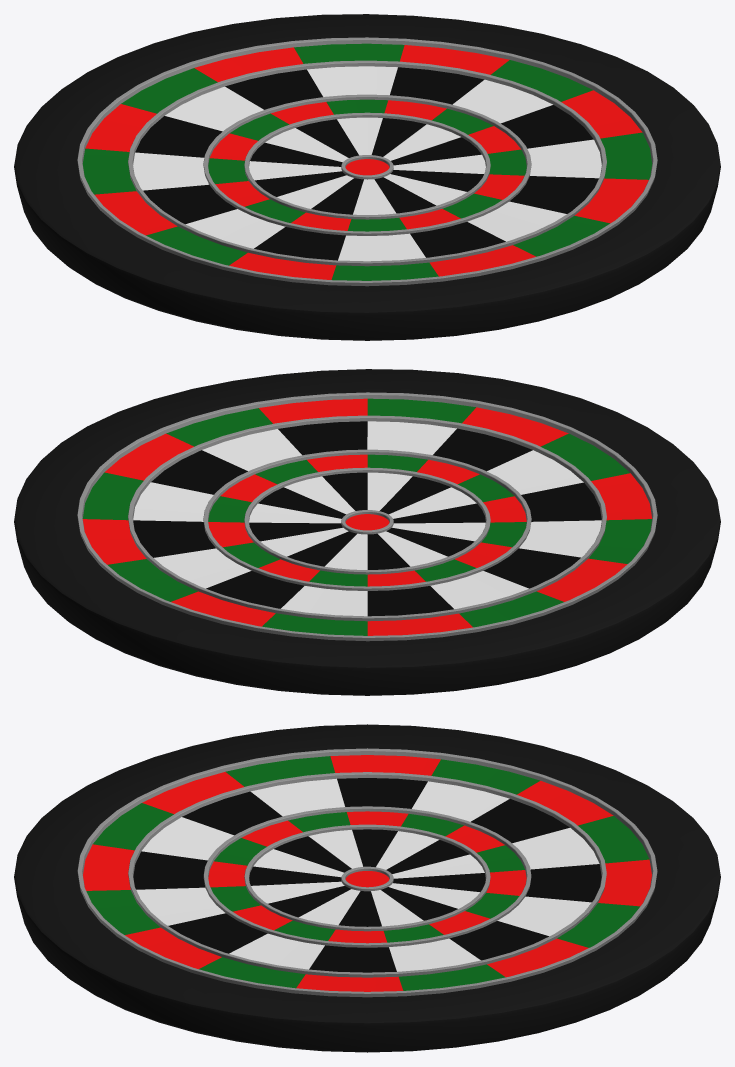
The model's file is Dart_Cible.FBX.
The picture shows the model from 3 angles, top to bottom: view 1: azimuth 30°, elevation 25°; view 2: azimuth 150°, elevation 25°; view 3: azimuth 270°, elevation 25°; orthographic projection.
Visible parts, largest first — view 1: Cylinder030; view 2: Cylinder030; view 3: Cylinder030.
Boxes of the visible parts, left/top/right/bottom form: Cylinder030: left=14, top=14, right=720, bottom=340; Cylinder030: left=14, top=369, right=720, bottom=695; Cylinder030: left=14, top=724, right=720, bottom=1052.
Size of the model in its own units: 1704 by 97.96 by 1704.
